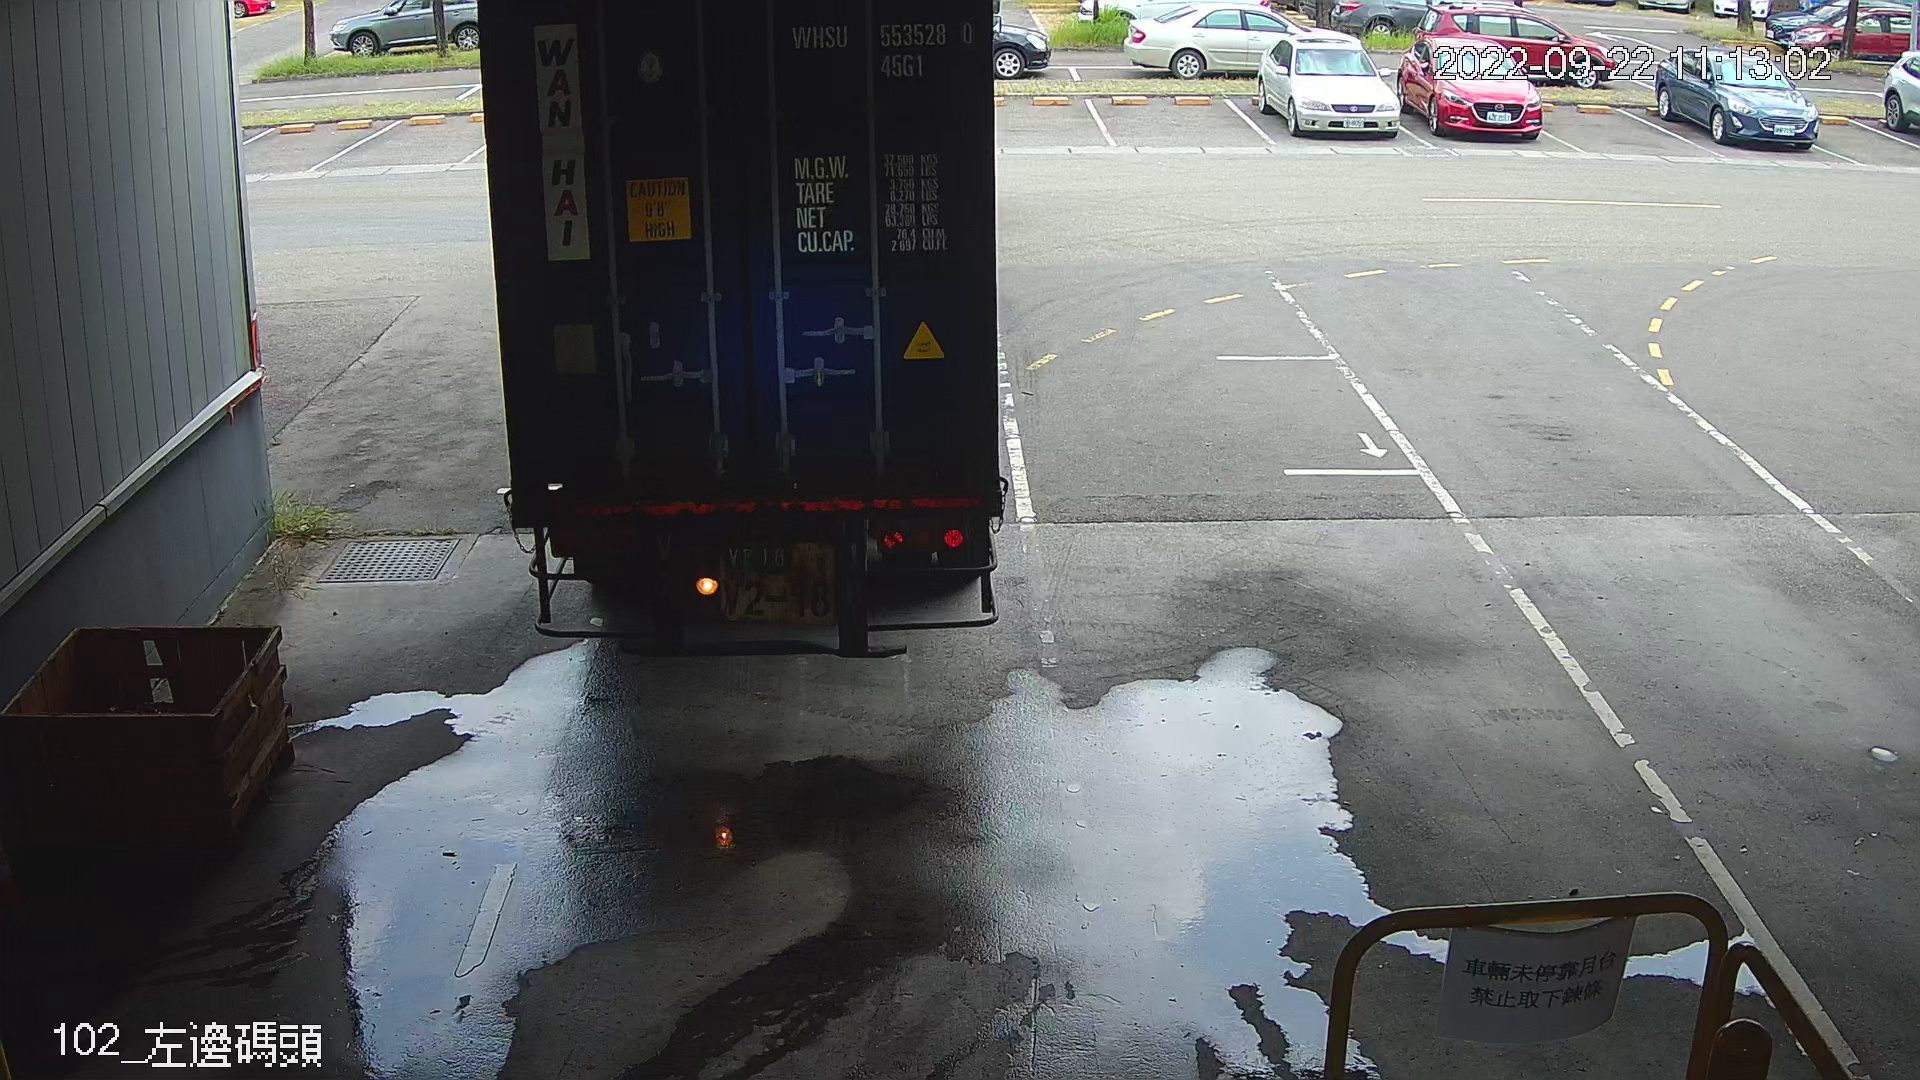container: (785, 13, 981, 84)
